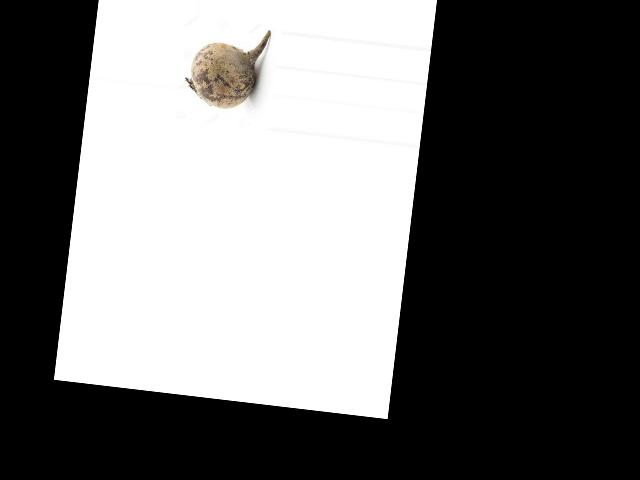beet: (182, 22, 270, 113)
